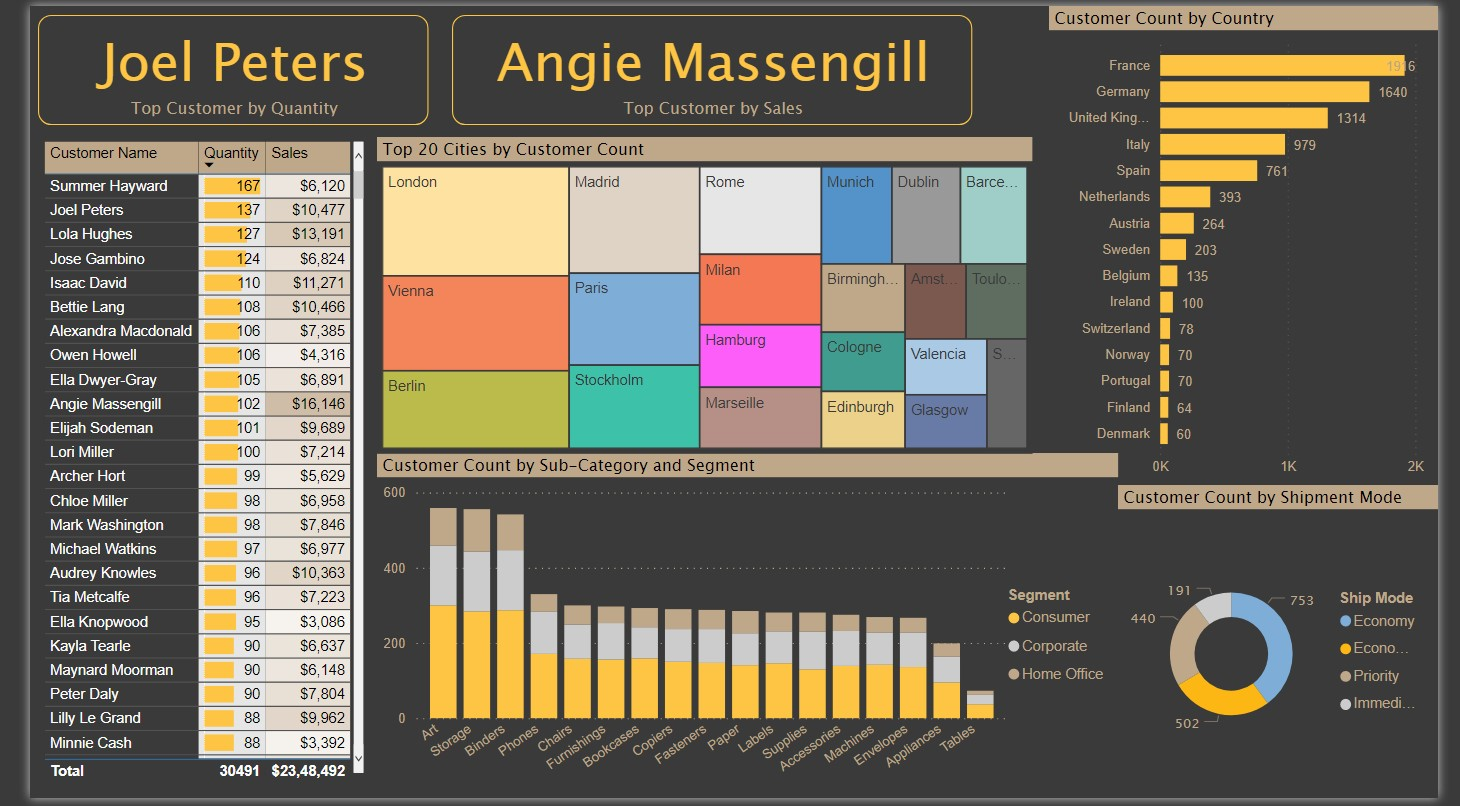

The page's visual inventory and layout, read from the dashboard file:
{"tool":"powerbi","page":{"name":"Customer","canvas":[1280,720],"ordinal":2},"visuals":[{"type":"barChart","title":"Customer Count by Country","fields":{"Category":["walmart_sales.Country"],"Y":["CountNonNull(walmart_sales.Customer Name)"]},"box":[926,0,354,435.3],"z":0},{"type":"tableEx","fields":{"Values":["walmart_sales.Customer Name","Sum(walmart_sales.Quantity)","Sum(walmart_sales.Sales)"]},"box":[6.9,118,301.4,592.9],"z":1},{"type":"card","fields":{"Values":["Min(walmart_sales.Customer Name)"]},"box":[6.9,7.9,354.9,100.1],"z":2},{"type":"card","fields":{"Values":["Min(walmart_sales.Customer Name)"]},"box":[383.7,7.9,472.9,100.1],"z":3},{"type":"columnChart","title":"Customer Count by Sub-Category and Segment","fields":{"Y":["Count(walmart_sales.Customer Name)"],"Category":["walmart_sales.Sub-Category"],"Series":["walmart_sales.Segment"]},"box":[315.3,406.5,674.2,313.3],"z":6},{"type":"treemap","title":"Top 20 Cities by Customer Count","fields":{"Group":["walmart_sales.City"],"Values":["Count(walmart_sales.Customer Name)"]},"box":[315.3,119,595.9,287.5],"z":7},{"type":"donutChart","title":"Customer Count by Shipment Mode","fields":{"Category":["walmart_sales.Ship Mode"],"Y":["Count(walmart_sales.Customer Name)"]},"box":[989,435,291,285],"z":8}]}

Visuals, with their boxes in screenshot pixels (x1, y1, x2, y2), scaled from the page's 1280x720 canvas onto the 1460x806 screenshot:
"Customer Count by Country" barChart: bbox(1056, 0, 1459, 487)
tableEx - walmart_sales.Customer Name x Sum(walmart_sales.Quantity): bbox(8, 132, 352, 796)
card - Min(walmart_sales.Customer Name): bbox(8, 9, 413, 121)
card - Min(walmart_sales.Customer Name): bbox(438, 9, 977, 121)
"Customer Count by Sub-Category and Segment" columnChart: bbox(360, 455, 1129, 805)
"Top 20 Cities by Customer Count" treemap: bbox(360, 133, 1039, 455)
"Customer Count by Shipment Mode" donutChart: bbox(1128, 487, 1459, 805)
